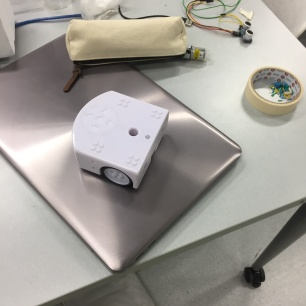thymio: (67, 87, 174, 196)
